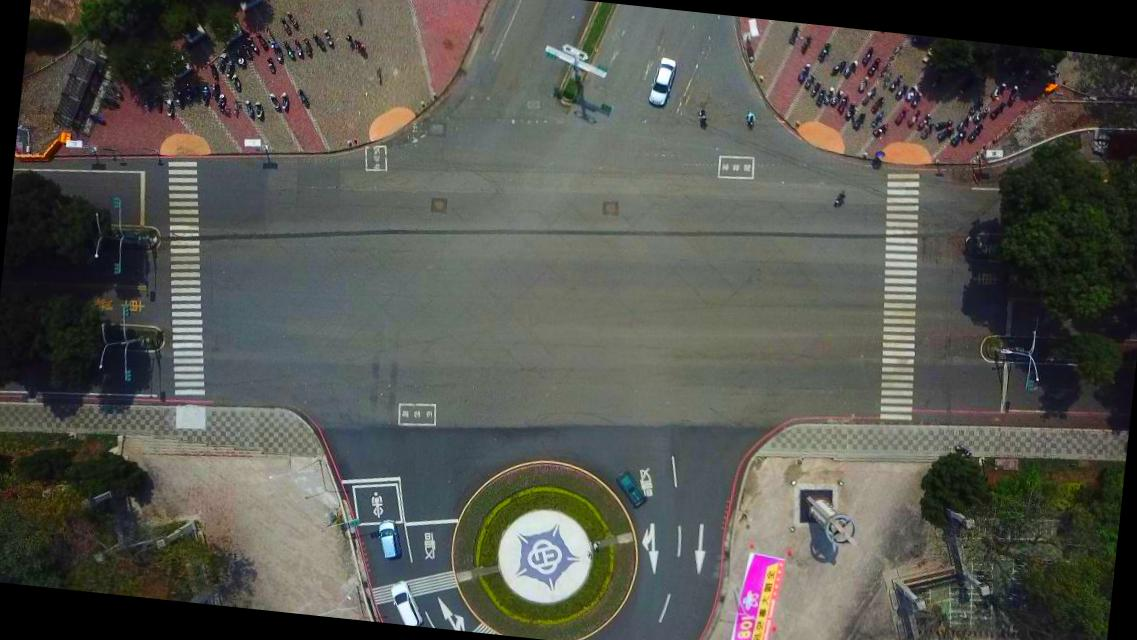vehicle: (388, 580, 428, 626), (612, 468, 649, 508), (648, 56, 676, 108), (376, 518, 402, 560)
